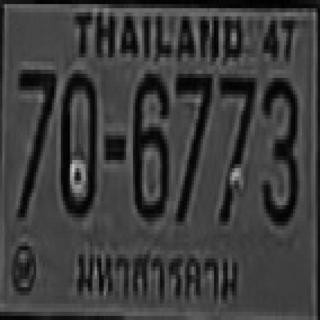N00: (59, 70, 95, 213)
N03: (259, 74, 295, 222)
N06: (131, 70, 167, 217)
N07: (16, 66, 54, 217), (175, 72, 211, 220), (218, 74, 254, 222)
P25: (72, 240, 248, 311)
